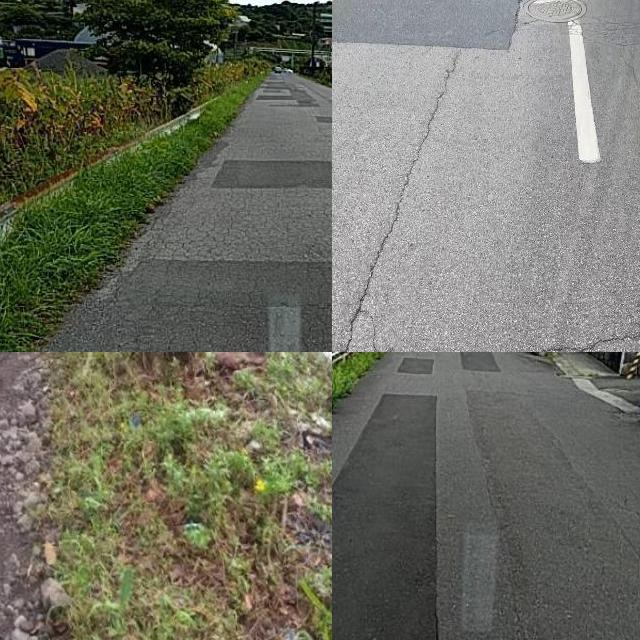Melintang: (369, 323, 640, 352)
Memanjang: (332, 48, 480, 352)
Pinggir: (0, 352, 87, 640)
Sambungan: (332, 393, 435, 640), (70, 258, 332, 352), (332, 0, 520, 49), (216, 155, 332, 189), (464, 352, 498, 370), (403, 357, 435, 375)
